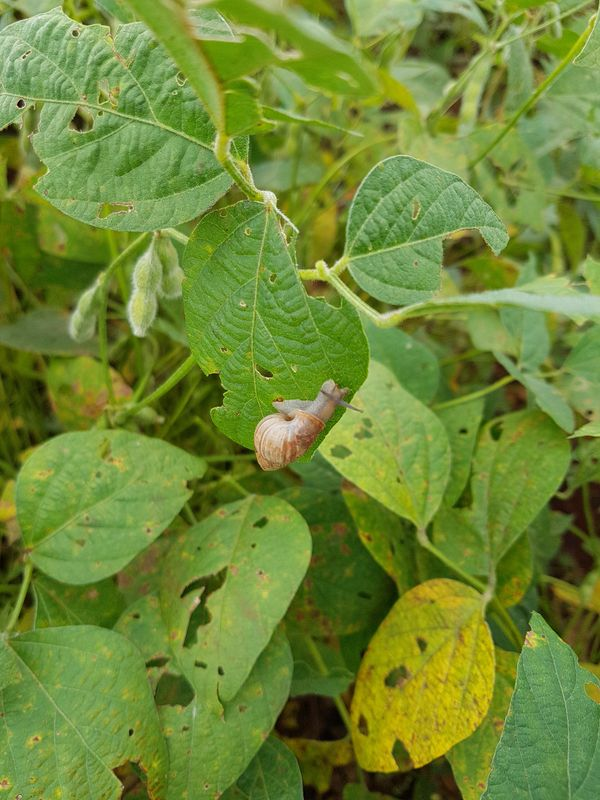Gastropoda: (245, 373, 370, 480)
